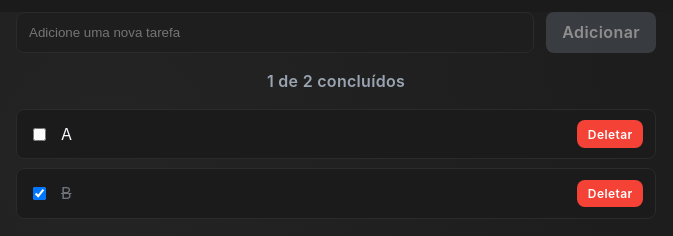
Test: TodoList - Testes de Fluxo de Controle › Caminho deleteTodo: remoção e empty-state › deve remover o item selecionado e manter os demais
Click the button with test id "delete-todo-1" at (610, 134), box [578, 120, 643, 148]
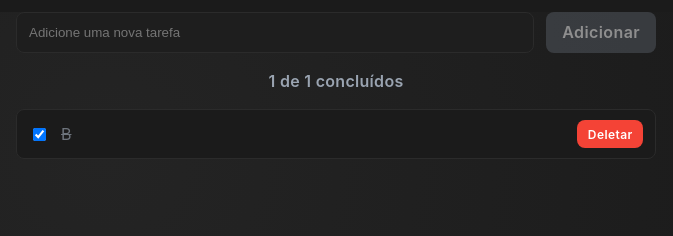
Expected: the element with test id "todo-item-2" is shown, [16, 109, 656, 159]
Now the element with test id "todo-item-1" is gone
